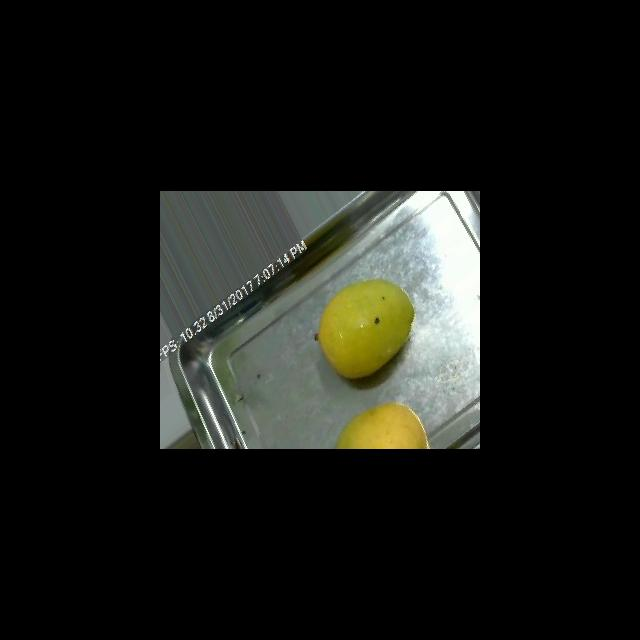mango: (316, 277, 414, 379), (334, 400, 431, 448)
